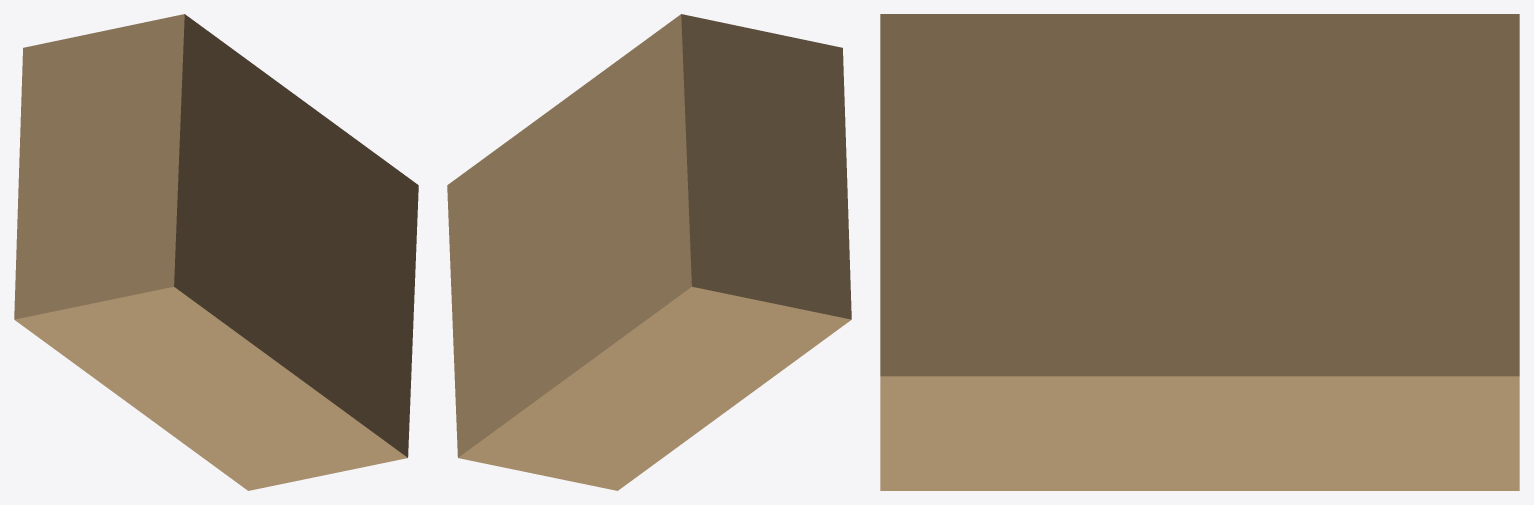
The picture shows the model from 3 angles, left to right: view 1: azimuth 30°, elevation 25°; view 2: azimuth 150°, elevation 25°; view 3: azimuth 270°, elevation 25°; orthographic projection. The views are drawn at different scales.
Visible parts, largest first — view 1: 0_2_1_3_0_0_3_1_2_0_1; view 2: 0_2_1_3_0_0_3_1_2_0_1; view 3: 0_2_1_3_0_0_3_1_2_0_1.
Part boxes in pixels (left/top/right/bottom): 0_2_1_3_0_0_3_1_2_0_1: left=14, top=14, right=418, bottom=490; 0_2_1_3_0_0_3_1_2_0_1: left=447, top=14, right=851, bottom=490; 0_2_1_3_0_0_3_1_2_0_1: left=880, top=14, right=1519, bottom=490.
Bounding box in the file's own units: 8.83 × 13.65 × 21.
